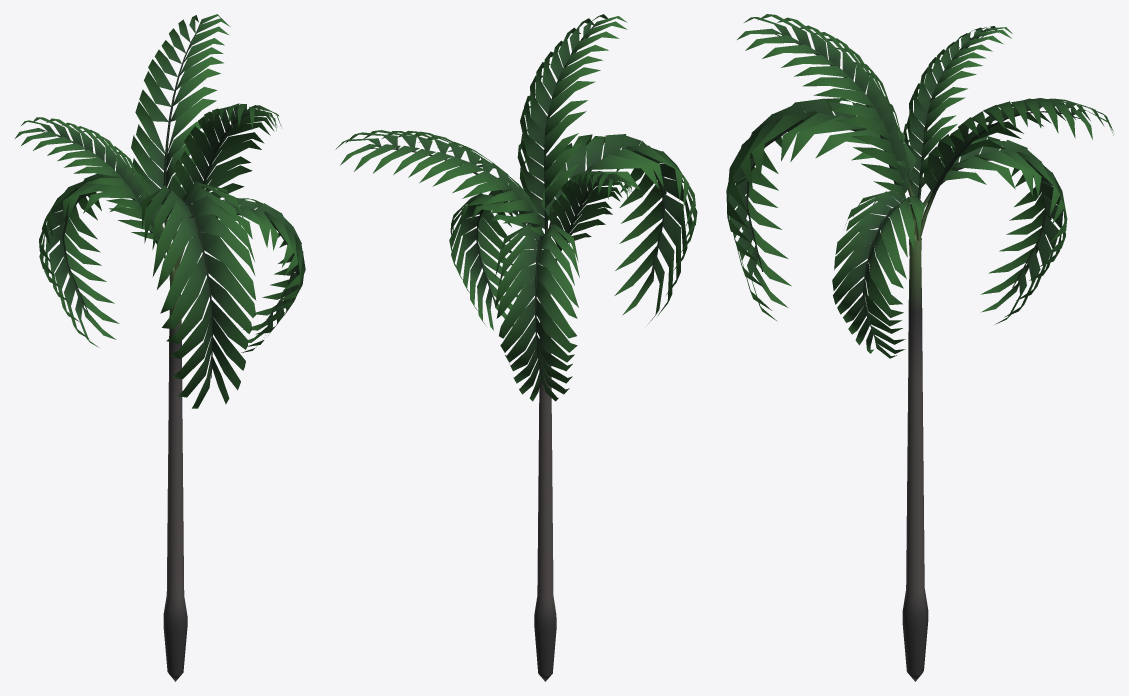
Rendered from trees-palms-ferns-drooping-palm_v3.glb.
The picture shows the model from 3 angles, left to right: view 1: azimuth 30°, elevation 25°; view 2: azimuth 150°, elevation 25°; view 3: azimuth 270°, elevation 25°; orthographic projection. The views are drawn at different scales.
Visible parts, largest first — view 1: Drooping Palm_v3; view 2: Drooping Palm_v3; view 3: Drooping Palm_v3.
Boxes of the visible parts, box(x1,y1,x2,y2) form: Drooping Palm_v3: box(15, 14, 305, 681); Drooping Palm_v3: box(335, 14, 697, 681); Drooping Palm_v3: box(726, 14, 1113, 681).
Size of the model in its own units: 4.28 by 10 by 5.28.
